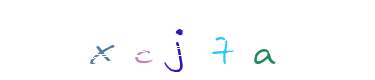7: (161, 0, 241, 80)
A: (182, 0, 262, 80)
C: (137, 0, 217, 80)
J: (147, 0, 227, 80)
X: (124, 0, 204, 80)
